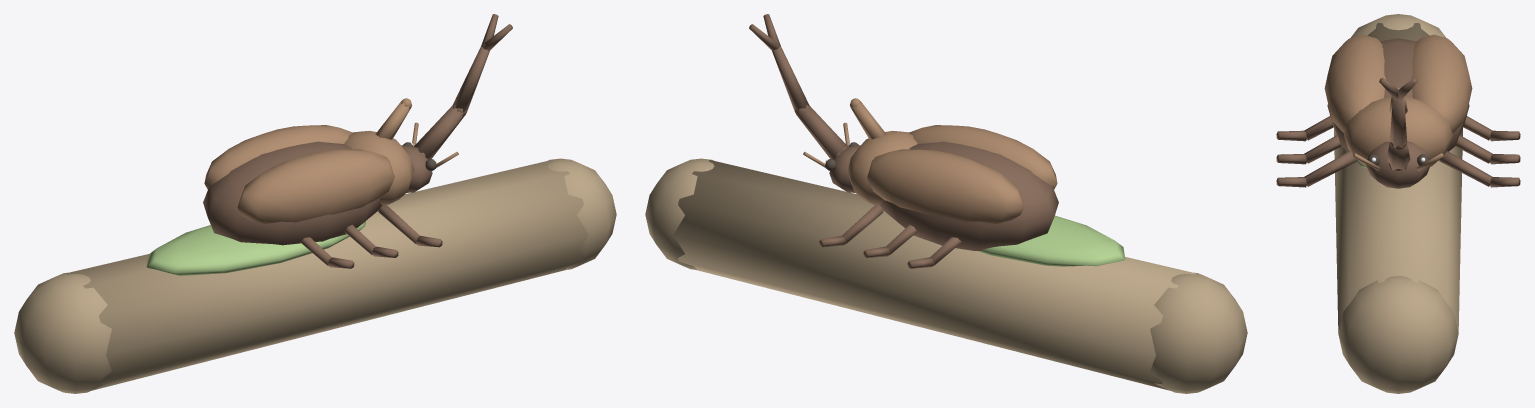
The model's file is rhinoceros-beetle.glb.
3 views of the same model, side by side, from view 1: azimuth 30°, elevation 25°; view 2: azimuth 150°, elevation 25°; view 3: azimuth 270°, elevation 25° (orthographic). The views are drawn at different scales.
Visible parts, largest first — view 1: e, e.003, e.004, e.009, e.005; view 2: e, e.003, e.005, e.009, e.004; view 3: e, e.003, e.004, e.005, e.009.
Part boxes in pixels (x1,y1,x2,y2): e: (14,158,616,393); e.003: (203,98,442,268); e.004: (237,149,394,223); e.009: (401,14,512,192); e.005: (204,125,352,189); e: (645,158,1247,393); e.003: (819,98,1058,268); e.005: (867,149,1024,223); e.009: (749,14,860,192); e.004: (909,125,1057,189); e: (1334,14,1462,393); e.003: (1276,38,1520,187); e.004: (1324,34,1385,133); e.005: (1411,34,1472,133); e.009: (1353,78,1443,188).
Size of the model in its own units: 1.33 by 0.5742 by 0.4463.
